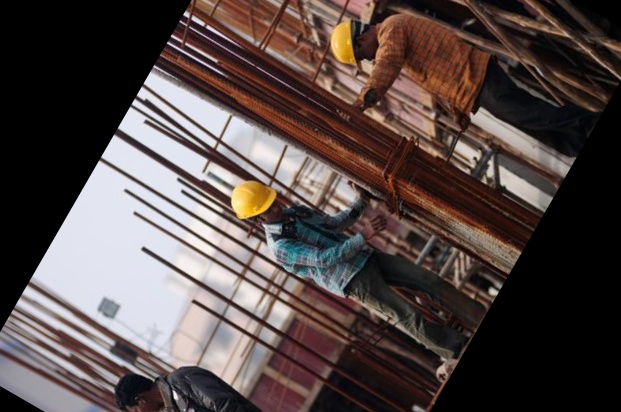NoJacket: (232, 181, 368, 299), (330, 19, 491, 111)
